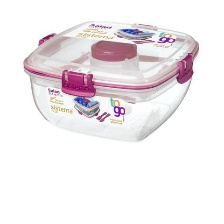plastic_box: (16, 11, 204, 148)
